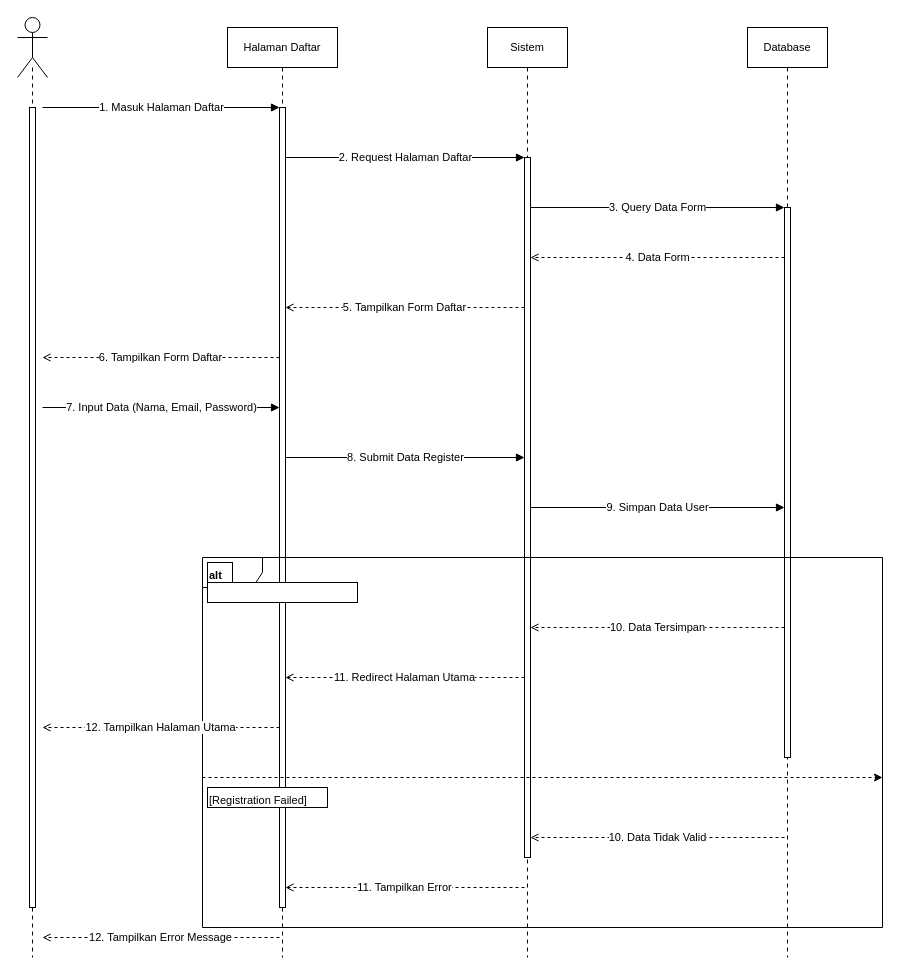
The diagram is 908 pixels wide and 976 high, and some of its shapes have lost their labels. The shapes that lost their labels are listed below. From the top down, each one's centre as x and y in pixels, then its label:
At [32,47]: "User".
At [282,592]: "[Registration Successful]".
